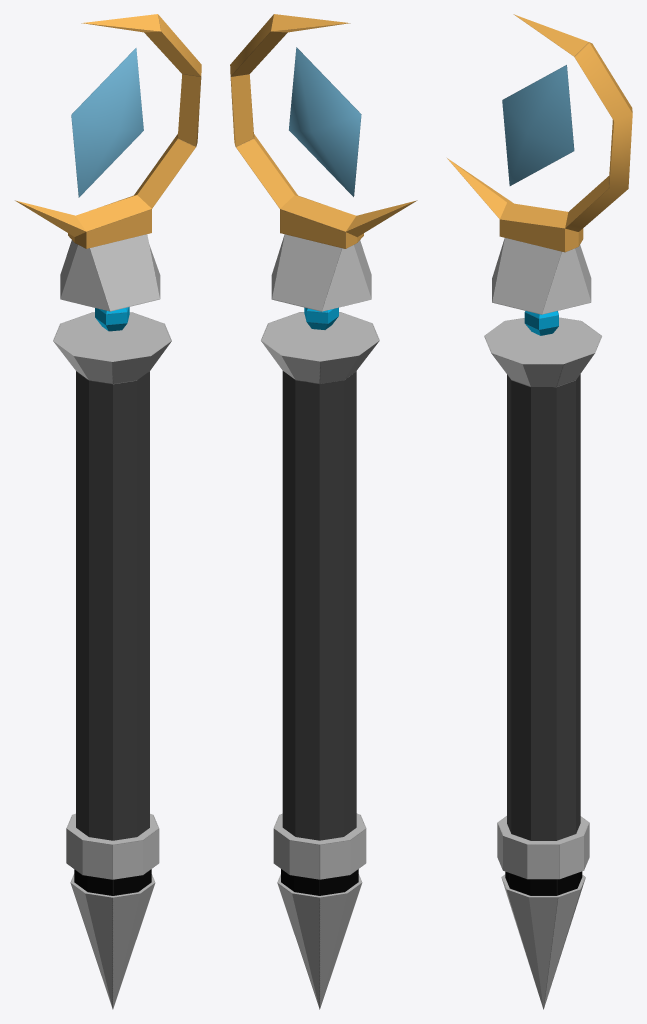
Rendered from Staff.fbx.
The picture shows the model from 3 angles, left to right: view 1: azimuth 30°, elevation 25°; view 2: azimuth 150°, elevation 25°; view 3: azimuth 330°, elevation 25°; orthographic projection.
Parts seen in each view (by area): view 1: pPlane4; view 2: pPlane4; view 3: pPlane4.
Boxes of the visible parts, x1,y1,x2,y2 form: pPlane4: (15, 14, 201, 1009); pPlane4: (230, 14, 417, 1009); pPlane4: (447, 14, 632, 1009).
Bounding box in the file's own units: 2.5 × 12.65 × 1.37.
Materials: 1 (1 with a texture image).
